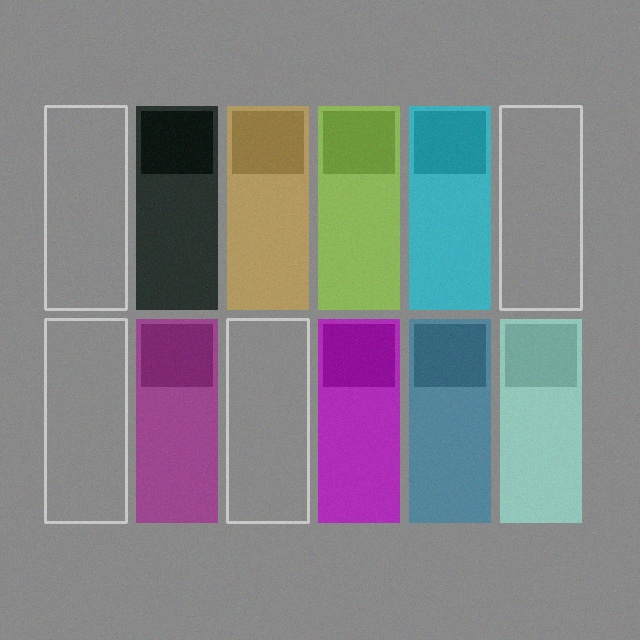space-empty: (45, 106, 126, 309), (500, 106, 581, 309), (45, 319, 126, 522), (227, 319, 308, 522)
space-occupied: (136, 106, 217, 309), (227, 106, 308, 309), (318, 106, 399, 309), (409, 106, 490, 309), (136, 319, 217, 522), (318, 319, 399, 522), (409, 319, 490, 522), (500, 319, 581, 522)
